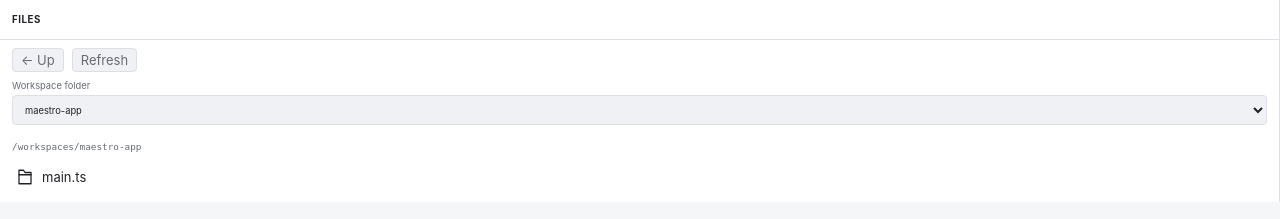
it: PrimarySidebar multi-root project resources › reloads Files from the selected workspace root
Check: the button "main.ts" is shown, box [8, 164, 1271, 190]
Select "maestro-docs" in the dropdown labelled "Workspace folder". click: (640, 110)
box: [12, 95, 1267, 125]
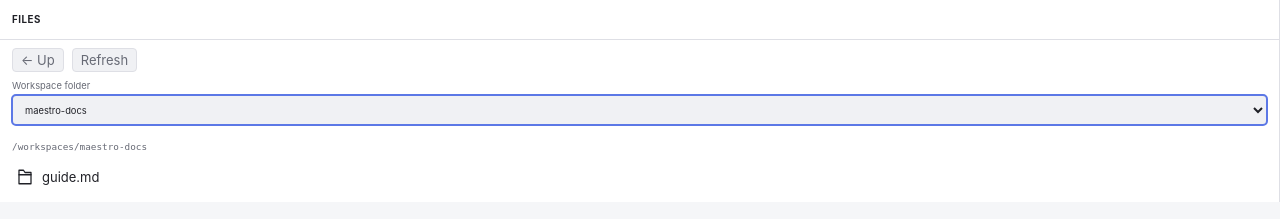
Check: the button "guide.md" is shown, box [8, 164, 1271, 190]
Check: the text titled "/workspaces/maestro-docs" is shown, box [12, 141, 147, 152]
